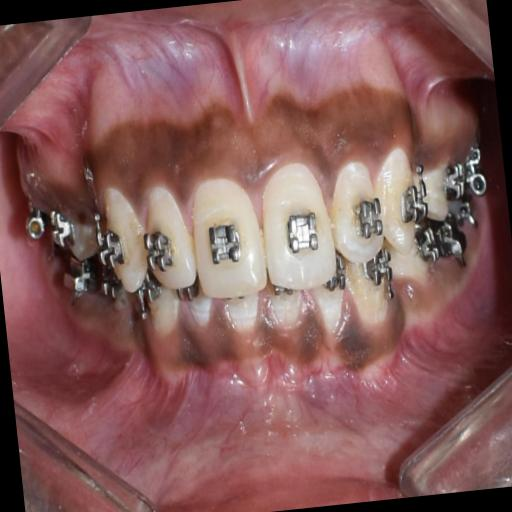correct_brace: (349, 190, 390, 248), (282, 208, 327, 260), (202, 216, 247, 266), (140, 224, 178, 278)
incorrect_brace: (134, 175, 199, 299), (324, 154, 392, 269)
